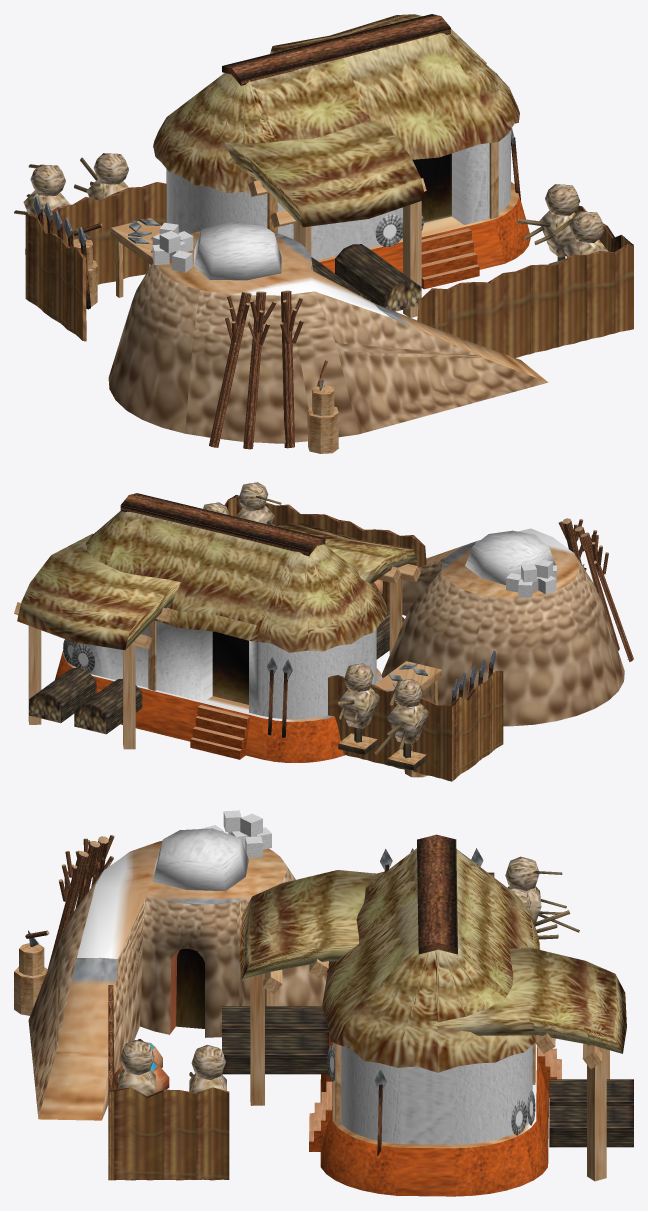
Rendered from forge_1.dae.
3 renders of one model, top to bottom at view 1: azimuth 30°, elevation 25°; view 2: azimuth 150°, elevation 25°; view 3: azimuth 270°, elevation 25°, orthographic. The views are drawn at different scales.
Visible parts, largest first — view 1: forja_1; view 2: forja_1; view 3: forja_1.
Boxes of the visible parts, x1,y1,x2,y2 form: forja_1: (14,14,633,453); forja_1: (14,482,633,781); forja_1: (14,810,633,1196).
Bounding box in the file's own units: 20.25 × 20.98 × 8.44.
